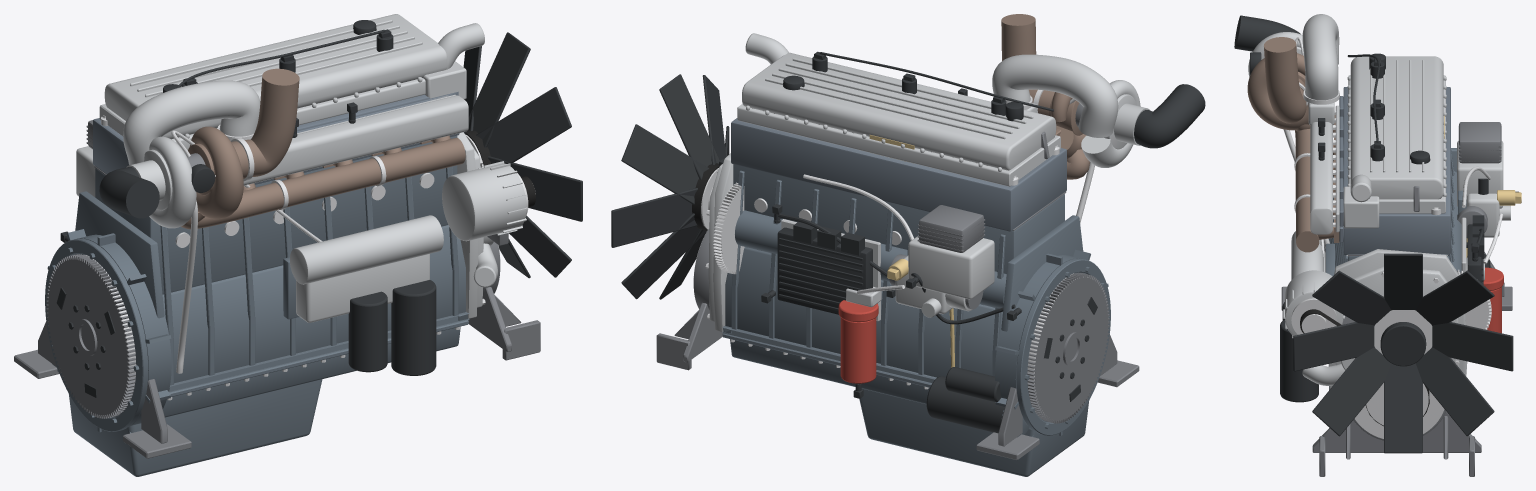
Rendered from qsm11.glb.
3 renders of one model, left to right at view 1: azimuth 30°, elevation 25°; view 2: azimuth 150°, elevation 25°; view 3: azimuth 270°, elevation 25°, orthographic. The views are drawn at different scales.
Visible parts, largest first — view 1: bloque, tapa_balancines, carter, carcasa_volante, ventilador, volante, enfriador_aceite, turbo, colector_admision, filtros_aceite, colector_escape, conducto_aire (+12 smaller); view 2: bloque, tapa_balancines, culata, ventilador, carcasa_volante, carter, volante, ecm, compresor_aire, conducto_aire, turbo, motor_arranque (+12 smaller); view 3: ventilador, tapa_balancines, culata, colector_admision, soporte_delantero, compresor_aire, conducto_aire, codo_escape, carcasa_engranajes, alternador, turbo, colector_escape (+18 smaller).
Part boxes in pixels (x1,y1,x2,y2): bloque: (95,135,469,392); tapa_balancines: (99,14,447,150); carter: (69,320,468,476); carcasa_volante: (14,191,191,458); ventilador: (463,32,582,278); volante: (46,254,136,418); enfriador_aceite: (289,215,443,322); turbo: (126,126,254,228); colector_admision: (243,94,468,185); filtros_aceite: (348,280,436,375); colector_escape: (181,135,465,229); conducto_aire: (123,80,260,165); bloque: (722,164,1064,383); tapa_balancines: (737,52,1060,186); culata: (731,118,1066,231); ventilador: (611,74,729,299); carcasa_volante: (976,215,1139,460); carter: (722,308,1089,476); volante: (1027,272,1109,423); ecm: (777,219,880,321); compresor_aire: (908,205,994,299); conducto_aire: (992,54,1118,137); turbo: (1033,80,1149,167); motor_arranque: (926,367,1004,433); ventilador: (1293,253,1513,453); tapa_balancines: (1347,53,1446,213); culata: (1339,87,1450,255); colector_admision: (1308,102,1339,234); soporte_delantero: (1312,411,1481,476); compresor_aire: (1457,122,1503,208); conducto_aire: (1302,14,1339,100); codo_escape: (1264,37,1306,123); carcasa_engranajes: (1328,249,1467,389); alternador: (1283,270,1355,338); turbo: (1247,32,1310,131); colector_escape: (1295,115,1339,252).
Bounding box in the file's own units: 1507 × 1204 × 882.
